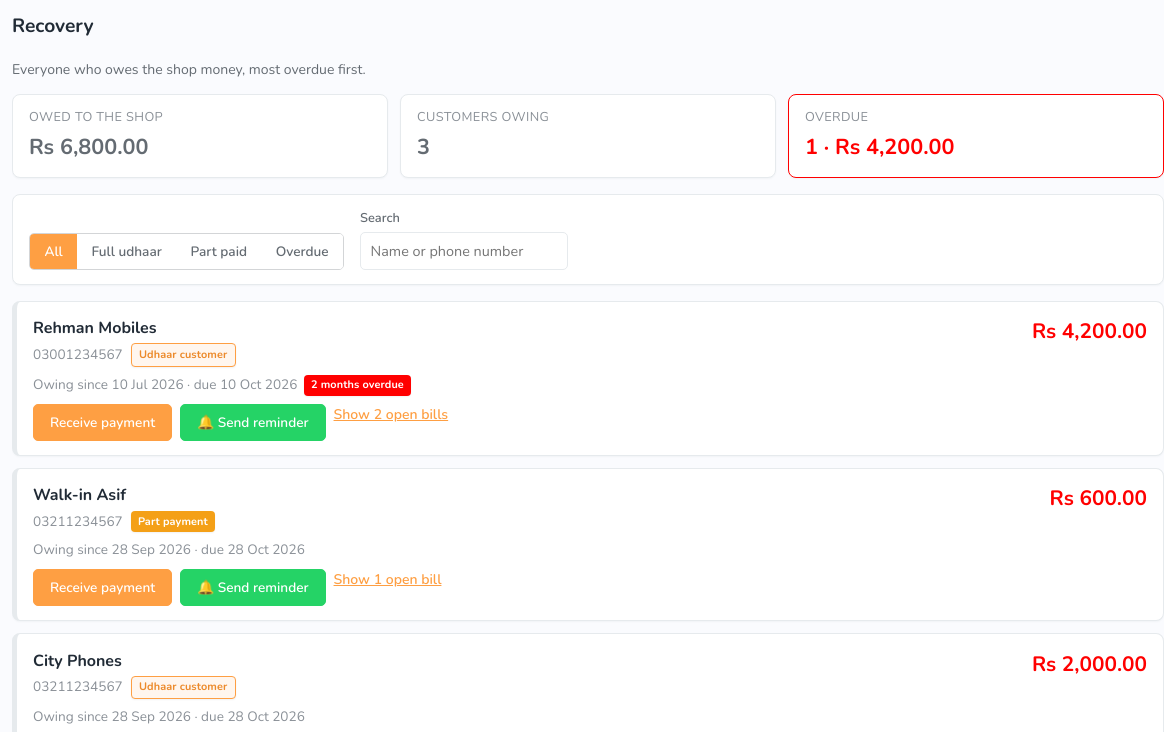
the recovery page › finds someone by name or phone
The width and height of the screenshot is (1164, 732).
Expected: the element with test id "recovery-7" is shown, [12,301,1163,456]
Step 1. Type "0321" into the field labelled "Search" → (464, 250), box [360,232,568,270]
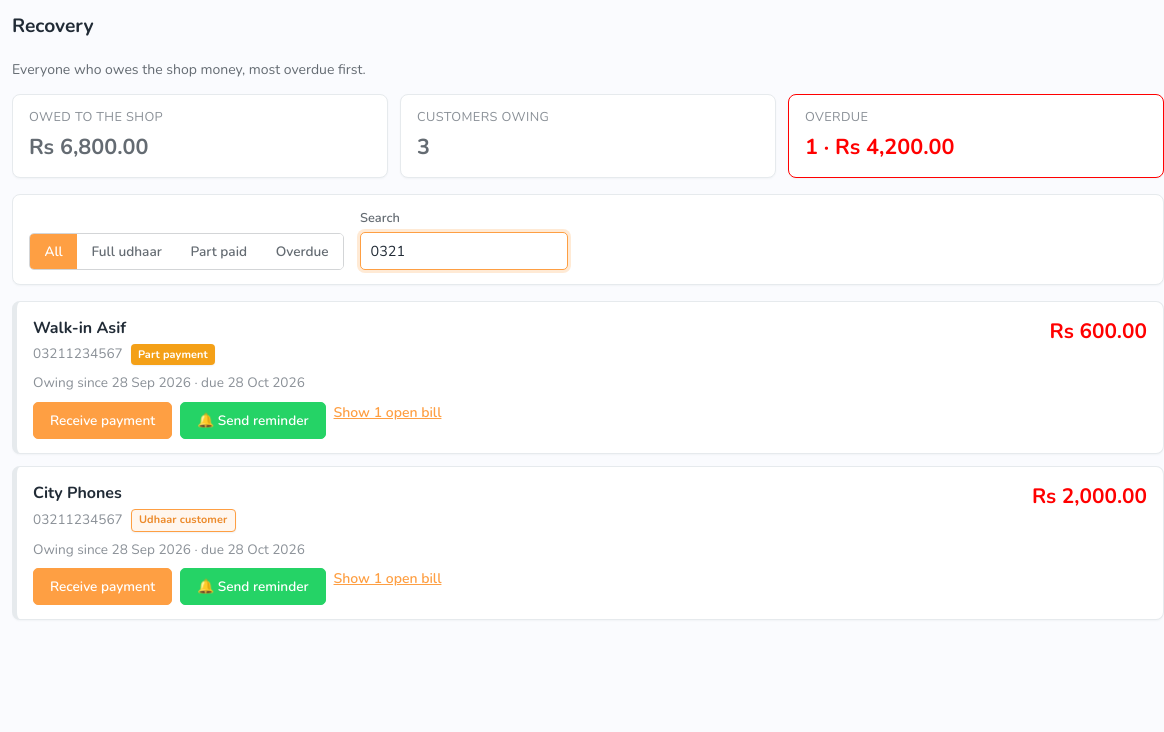
Expected: the element with test id "recovery-9" is shown, [12,301,1163,454]
Result: the element with test id "recovery-7" is gone
